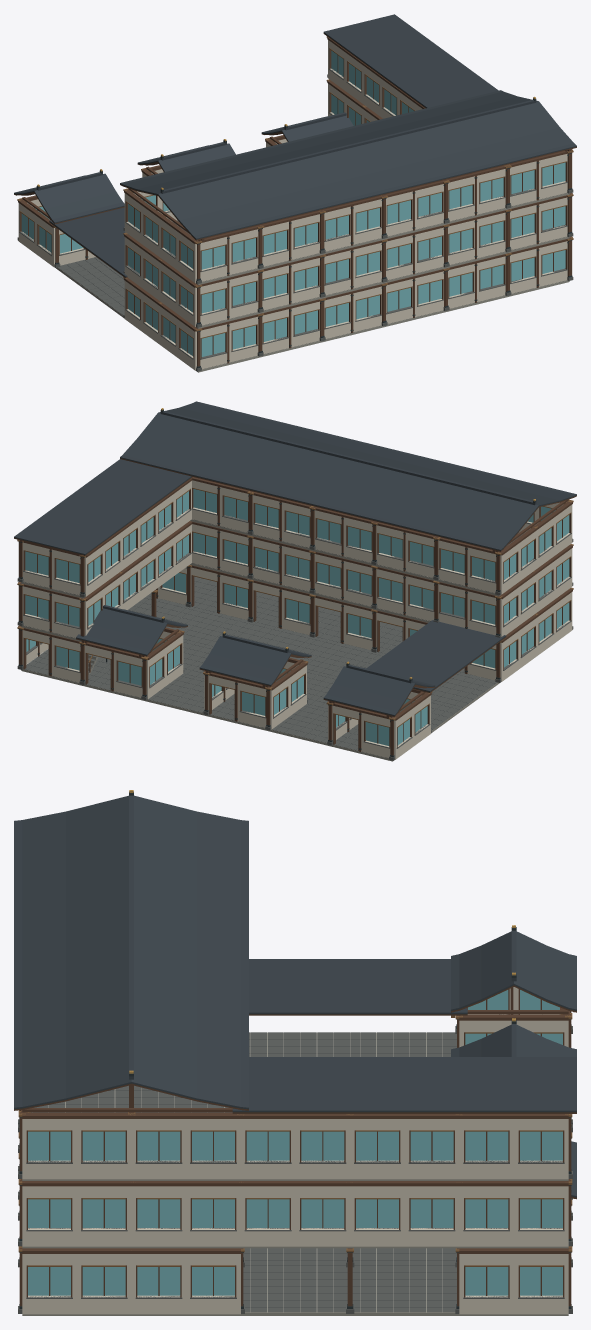
3 views of the same model, one above another, from view 1: azimuth 30°, elevation 25°; view 2: azimuth 150°, elevation 25°; view 3: azimuth 270°, elevation 25° (orthographic). The views are drawn at different scales.
Visible parts, largest first — view 1: 参数墙 · 独立窗玻璃 (×29), 连续屋面 · gable (×4), 连续屋面 · flat (×2), 石铺面与混凝土楼板 (×2); view 2: 参数墙 · 独立窗玻璃 (×27), 连续屋面 · gable (×4), 石铺面与混凝土楼板 (×17), 参数墙 · 通行门洞 (×10), 连续屋面 · flat (×2); view 3: 参数墙 · 独立窗玻璃 (×15), 连续屋面 · gable (×3), 连续屋面 · flat (×2), 石铺面与混凝土楼板 (×8).
Boxes of the visible parts, box(x1,y1,x2,y2) form: 参数墙 · 独立窗玻璃 (×29): box(18, 37, 569, 370); 连续屋面 · gable (×4): box(14, 90, 576, 240); 连续屋面 · flat (×2): box(49, 14, 498, 278); 石铺面与混凝土楼板 (×2): box(56, 257, 124, 317); 参数墙 · 独立窗玻璃 (×27): box(21, 477, 572, 759); 连续屋面 · gable (×4): box(76, 401, 576, 717); 石铺面与混凝土楼板 (×17): box(21, 586, 498, 761); 参数墙 · 通行门洞 (×10): box(22, 565, 496, 757); 连续屋面 · flat (×2): box(14, 459, 506, 692); 参数墙 · 独立窗玻璃 (×15): box(22, 987, 568, 1314); 连续屋面 · gable (×3): box(14, 790, 576, 1112); 连续屋面 · flat (×2): box(232, 959, 576, 1113); 石铺面与混凝土楼板 (×8): box(31, 1032, 459, 1315).
Bounding box in the file's own units: 32.8 × 13.08 × 27.2.
14 materials, 14 textured.
